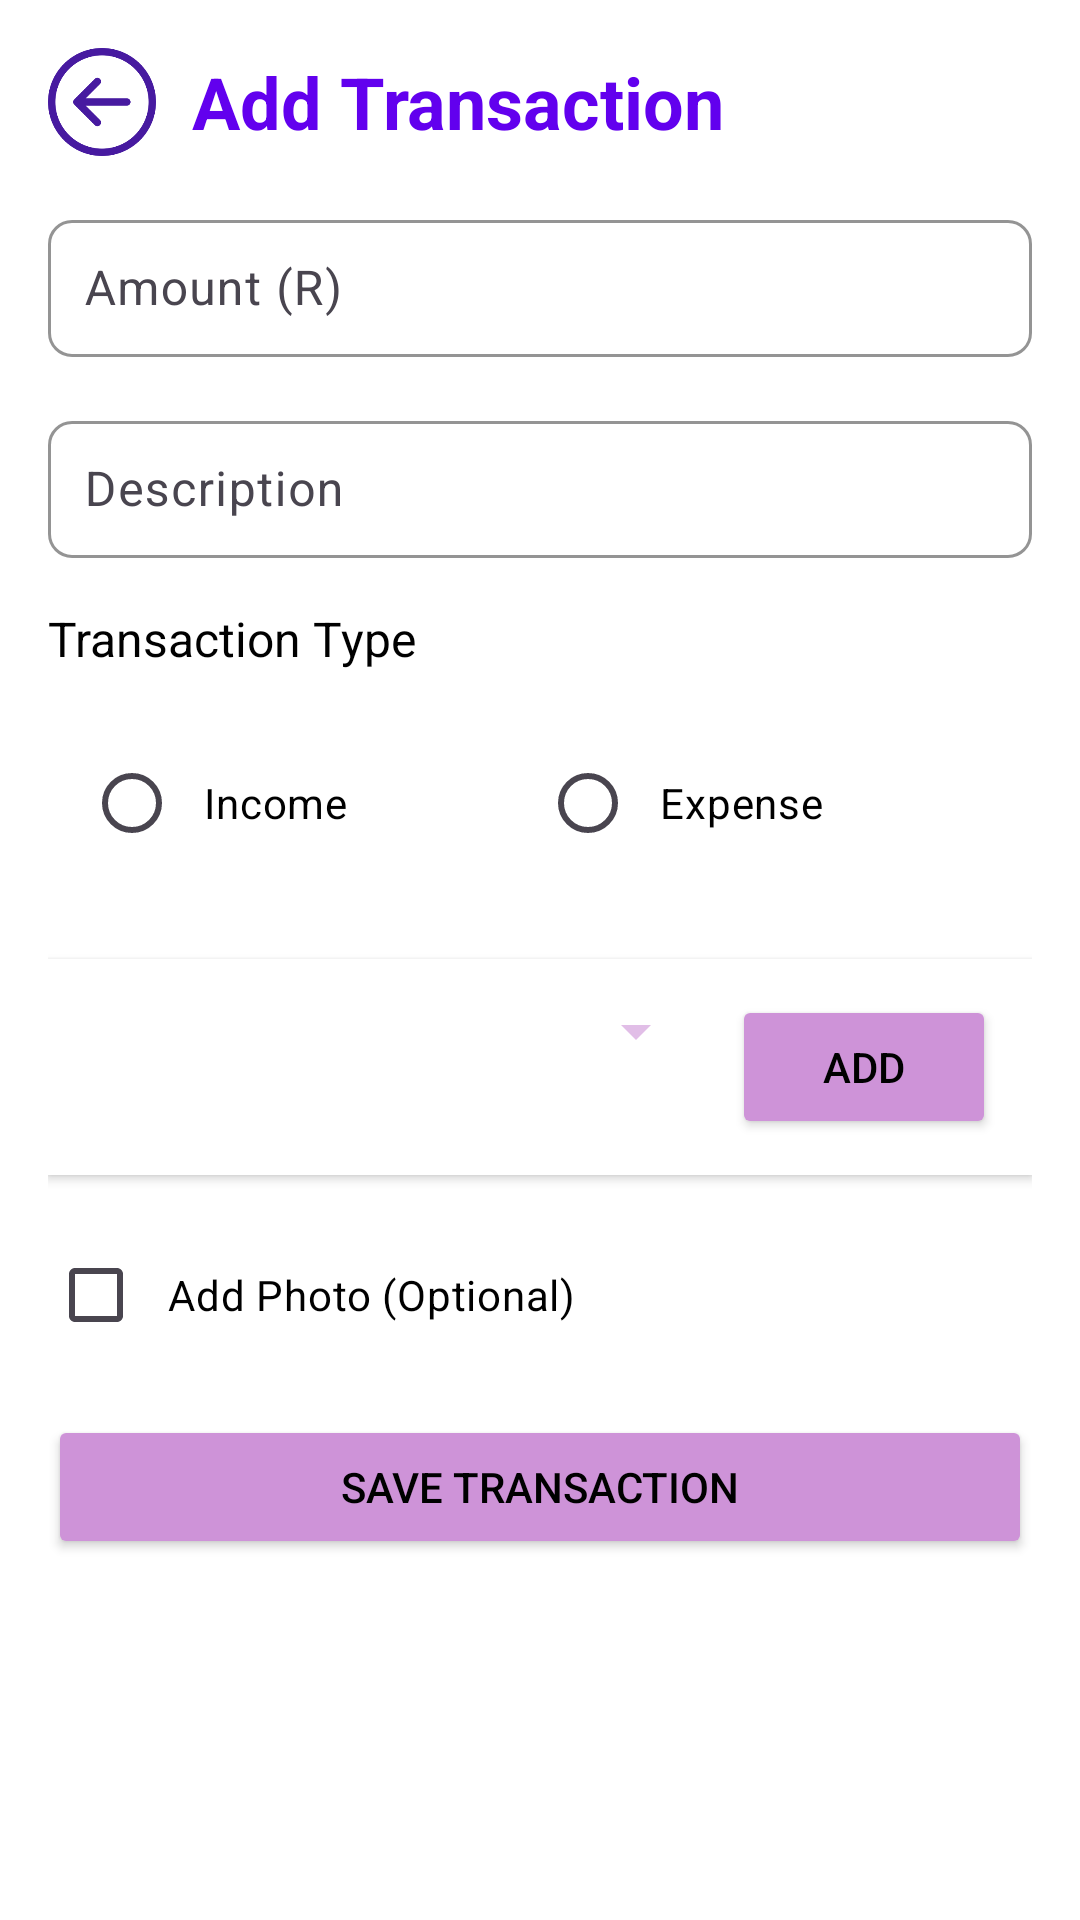

Icon bounding boxes for this 1080*1920 phone screenshot, format (x1, y1, x2, y2):
back: (48, 48, 156, 156)
